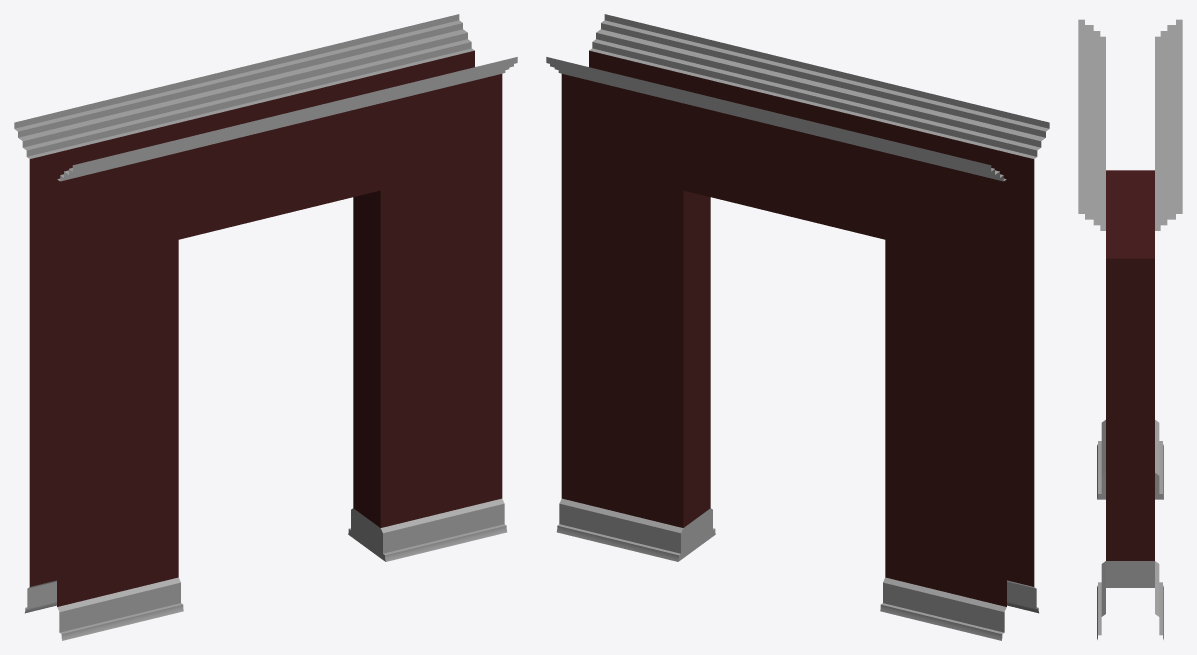
File: ContemporaryFrameNoMoulding.fbx
3 renders of one model, left to right at view 1: azimuth 30°, elevation 25°; view 2: azimuth 150°, elevation 25°; view 3: azimuth 270°, elevation 25°, orthographic. The views are drawn at different scales.
Parts seen in each view (by area): view 1: WallOneSide12; view 2: WallOneSide12; view 3: WallOneSide12.
Boxes of the visible parts, x1,y1,x2,y2 form: WallOneSide12: (14,14,517,640); WallOneSide12: (546,14,1049,640); WallOneSide12: (1078,19,1182,639).
Bounding box in the file's own units: 3.47 × 3.6 × 0.7887.
